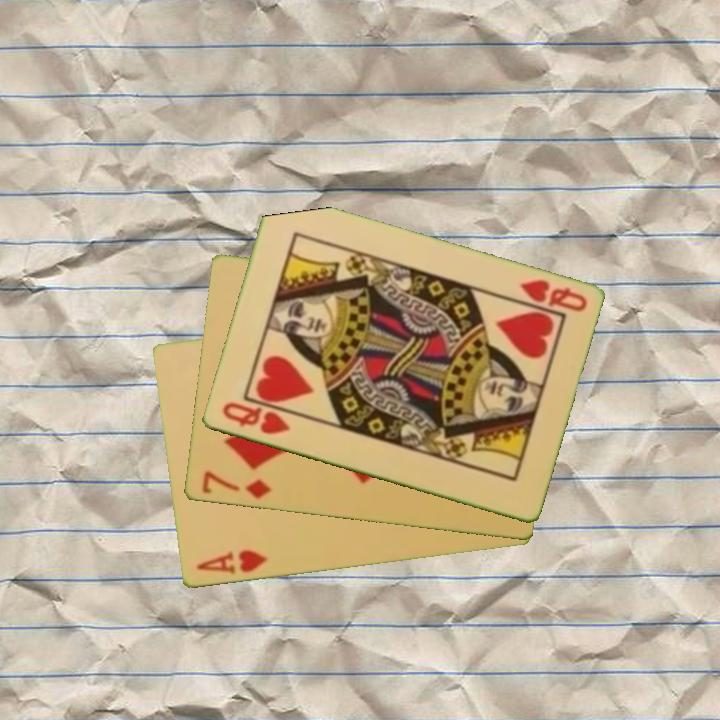7d: (198, 467, 274, 503)
Ah: (192, 546, 270, 577)
Qh: (218, 398, 292, 438), (515, 276, 590, 315)
